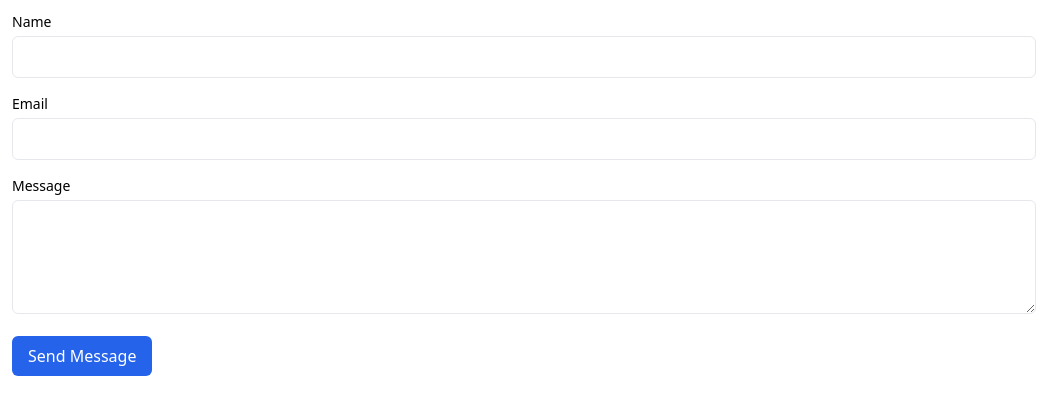
it: ContactForm validation › shows error for invalid email
Type "not-an-email" into the field with id "email" at (524, 139), box [12,118,1036,160]
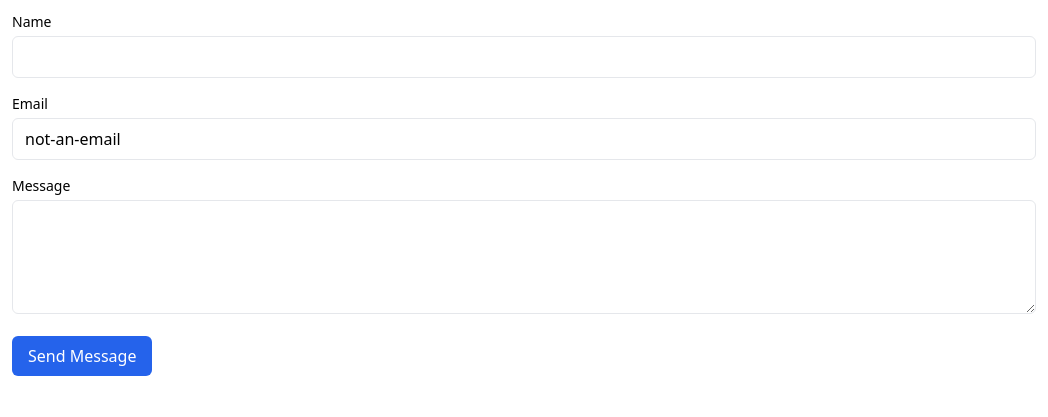
Leave the field with id "email", box [12,118,1036,160]
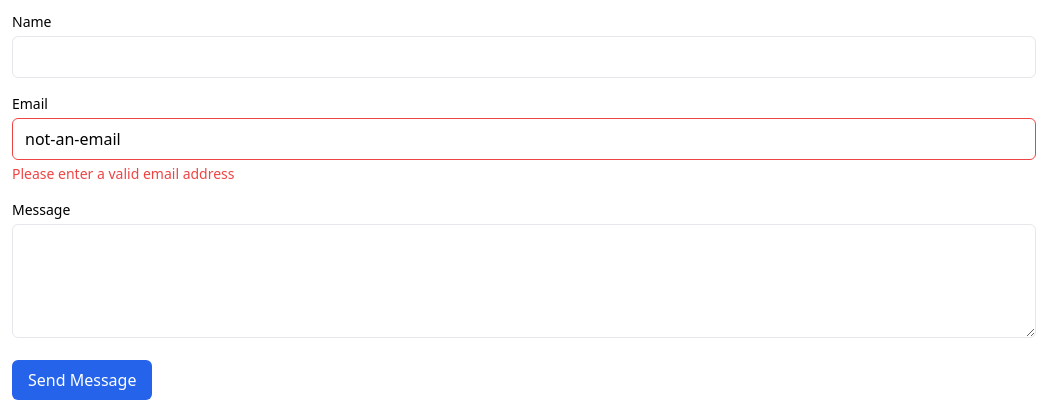
Check: the text "Please enter a valid email address" is shown, box [12,164,234,183]
